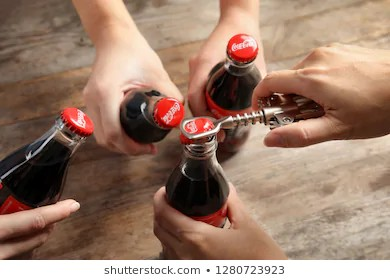coke-glass-bottle: (1, 102, 101, 215), (165, 114, 235, 224), (112, 83, 193, 154), (202, 31, 271, 113)
